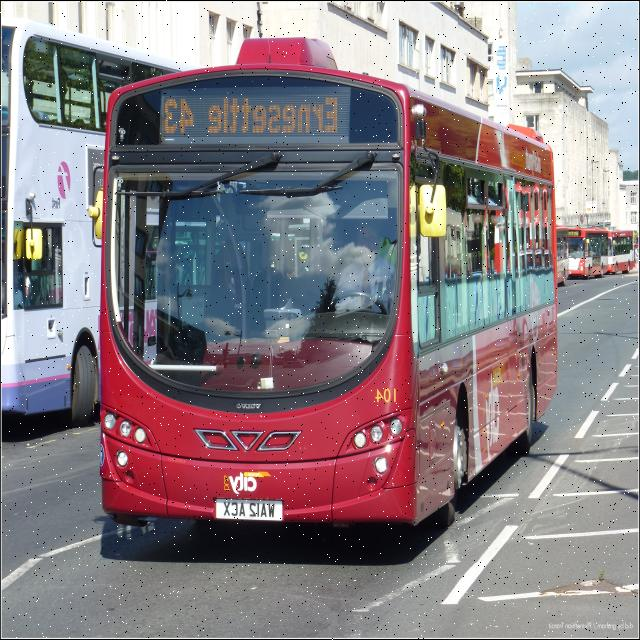Bus: (101, 37, 558, 517), (1, 23, 182, 424), (565, 225, 604, 278), (604, 229, 632, 272), (558, 221, 569, 284)
